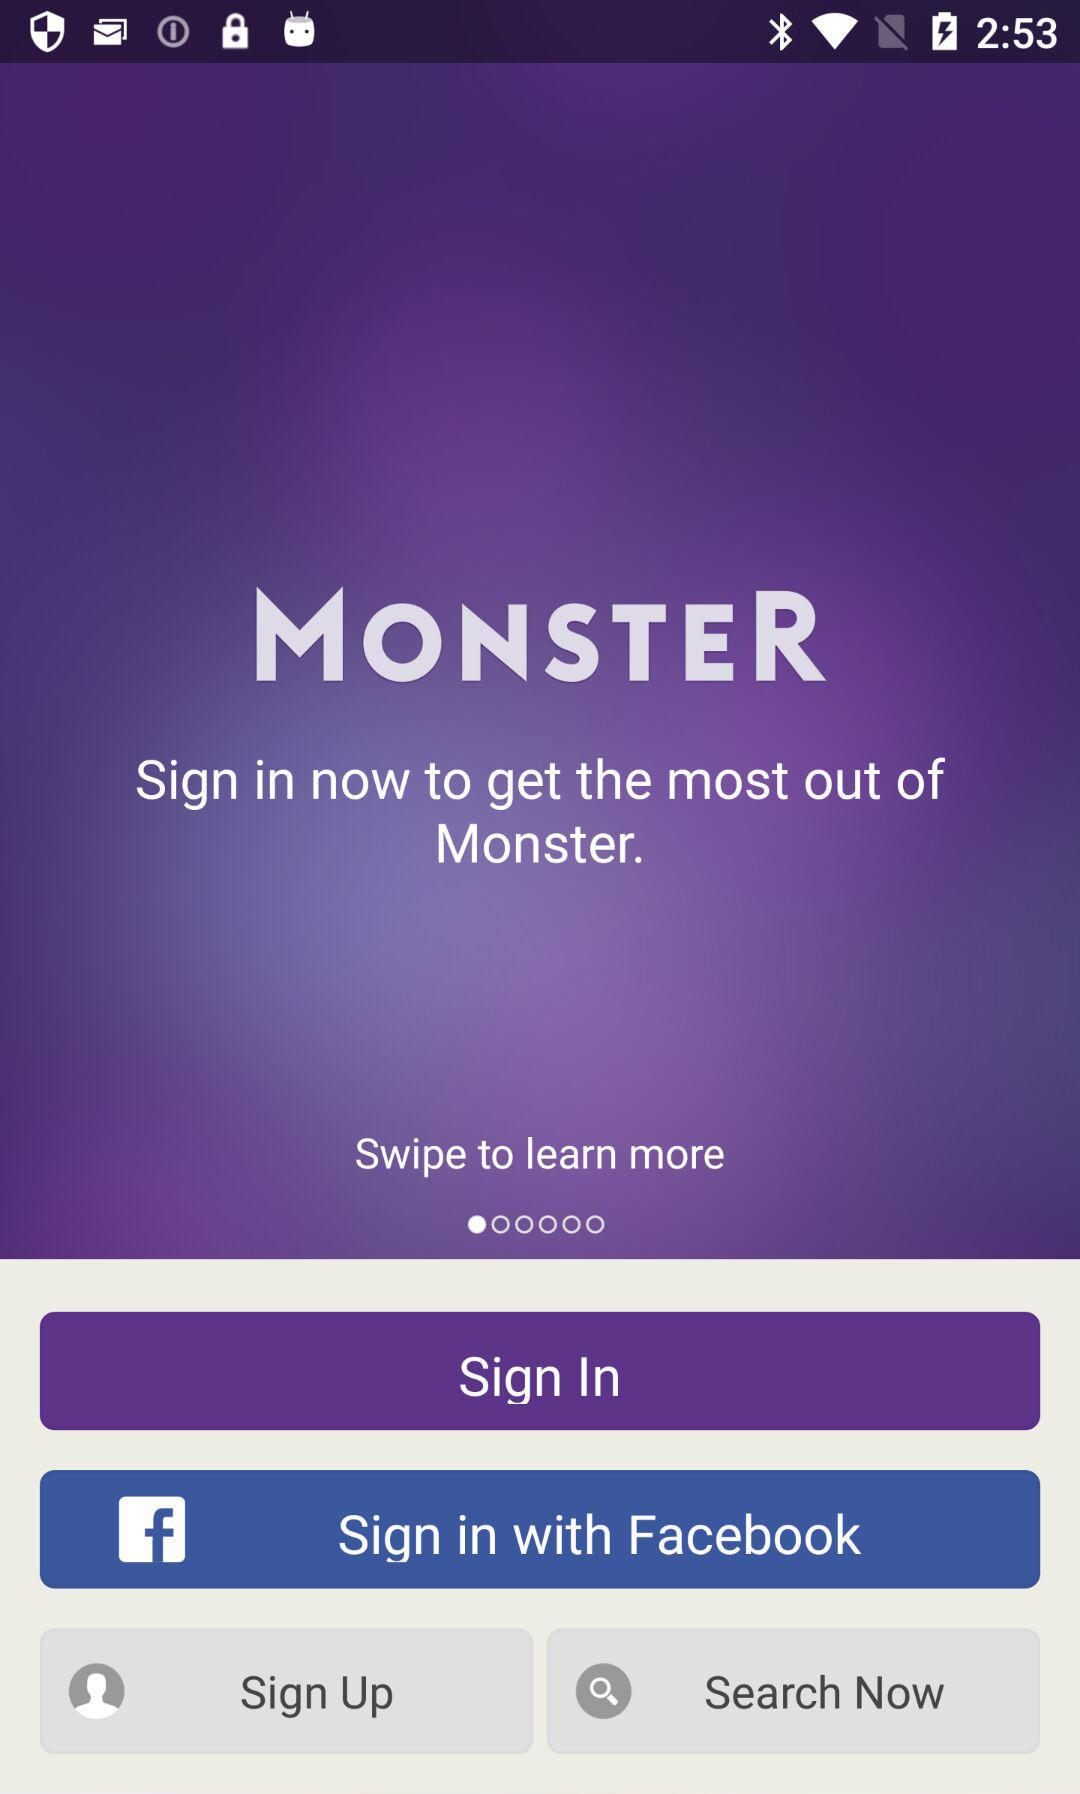PageIndicator: (468, 1214, 606, 1237)
Text: (135, 757, 948, 868), (254, 586, 828, 684), (355, 1135, 726, 1181)
TextButton: (40, 1469, 1042, 1590), (40, 1312, 1042, 1431), (40, 1627, 536, 1756), (547, 1627, 1042, 1756)
UpperTaskBar: (1, 1, 1080, 64)
